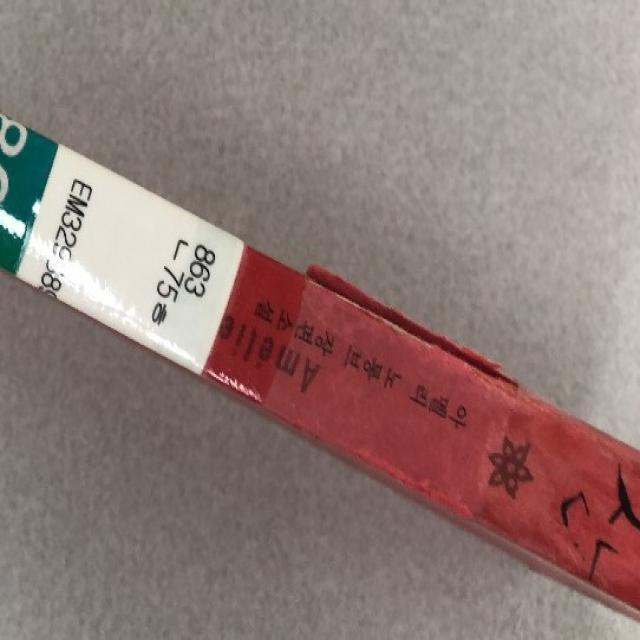Ripped: (299, 258, 532, 399)
Wornout: (344, 440, 475, 521)
